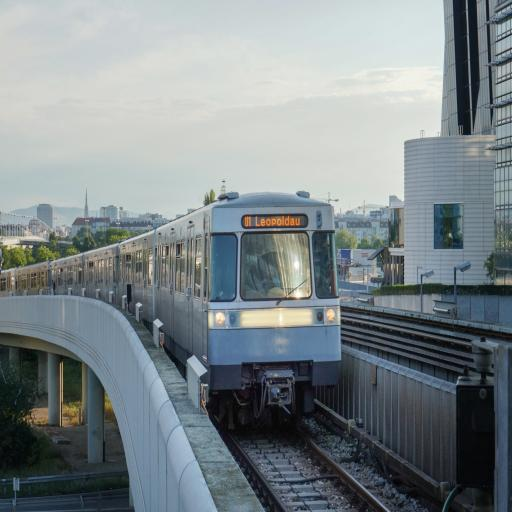Silberpfeil: (0, 184, 345, 410)
